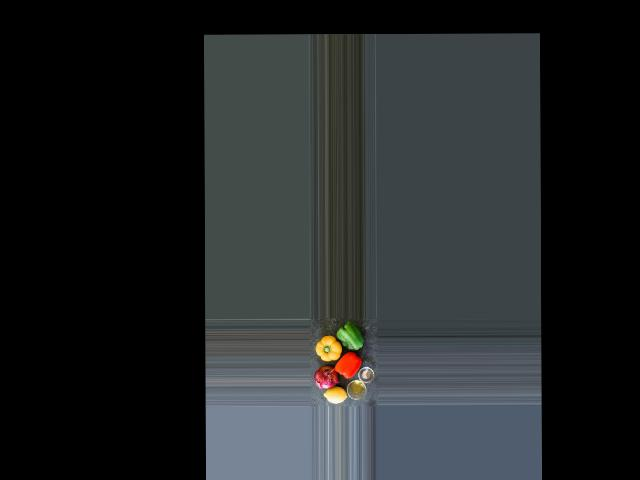bell_pepper: (333, 352, 362, 378)
